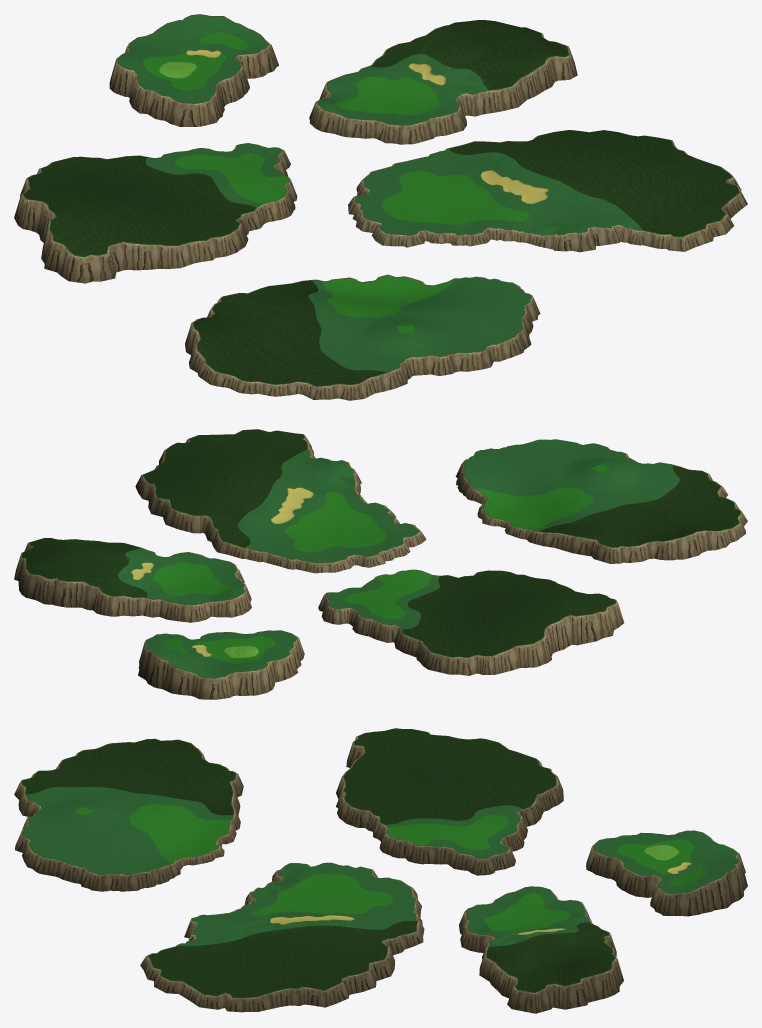
File: glf_map_fc13__glf_map_fc13.glb
3 renders of one model, top to bottom at view 1: azimuth 30°, elevation 25°; view 2: azimuth 150°, elevation 25°; view 3: azimuth 270°, elevation 25°, orthographic. The views are drawn at different scales.
Visible parts, largest first — view 1: polygon5, polygon6, polygon4, polygon2, polygon0; view 2: polygon5, polygon4, polygon6, polygon2, polygon0; view 3: polygon5, polygon4, polygon6, polygon2, polygon0.
Boxes of the visible parts, box(x1,y1,x2,y2) form: polygon5: box(23, 20, 739, 386); polygon6: box(118, 15, 641, 372); polygon4: box(14, 14, 747, 400); polygon2: box(143, 32, 529, 332); polygon0: box(186, 49, 548, 203); polygon5: box(22, 429, 740, 657); polygon4: box(14, 429, 747, 699); polygon6: box(118, 439, 679, 678); polygon2: box(153, 464, 609, 663); polygon0: box(131, 487, 313, 656); polygon5: box(22, 728, 615, 997); polygon4: box(14, 728, 747, 1013); polygon6: box(22, 786, 739, 947); polygon2: box(75, 804, 704, 931); polygon0: box(270, 862, 691, 934).
Size of what is drawn, in the model's own units: 4511 by 228 by 5266.
7 materials, 7 textured.
